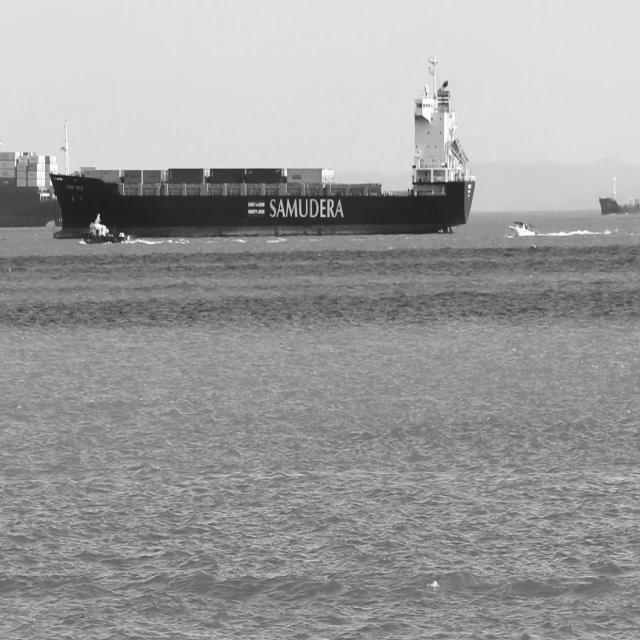ship: (48, 51, 476, 240), (0, 150, 58, 231), (598, 173, 640, 216), (80, 212, 134, 245), (509, 218, 538, 237)
